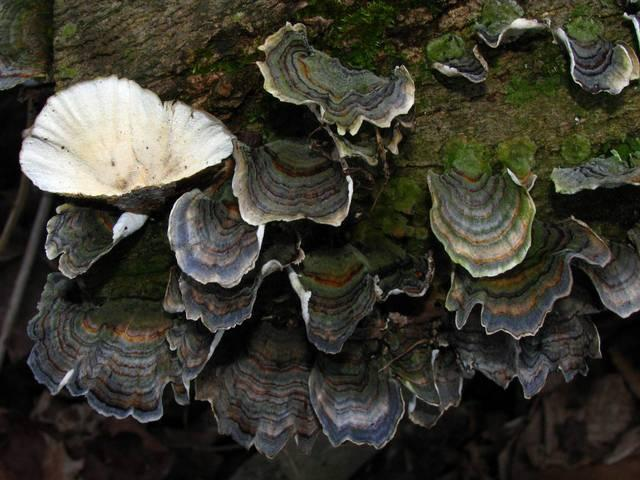poisonous_mushroom: (8, 140, 640, 449), (17, 73, 235, 215), (254, 20, 416, 138), (425, 139, 537, 278)
